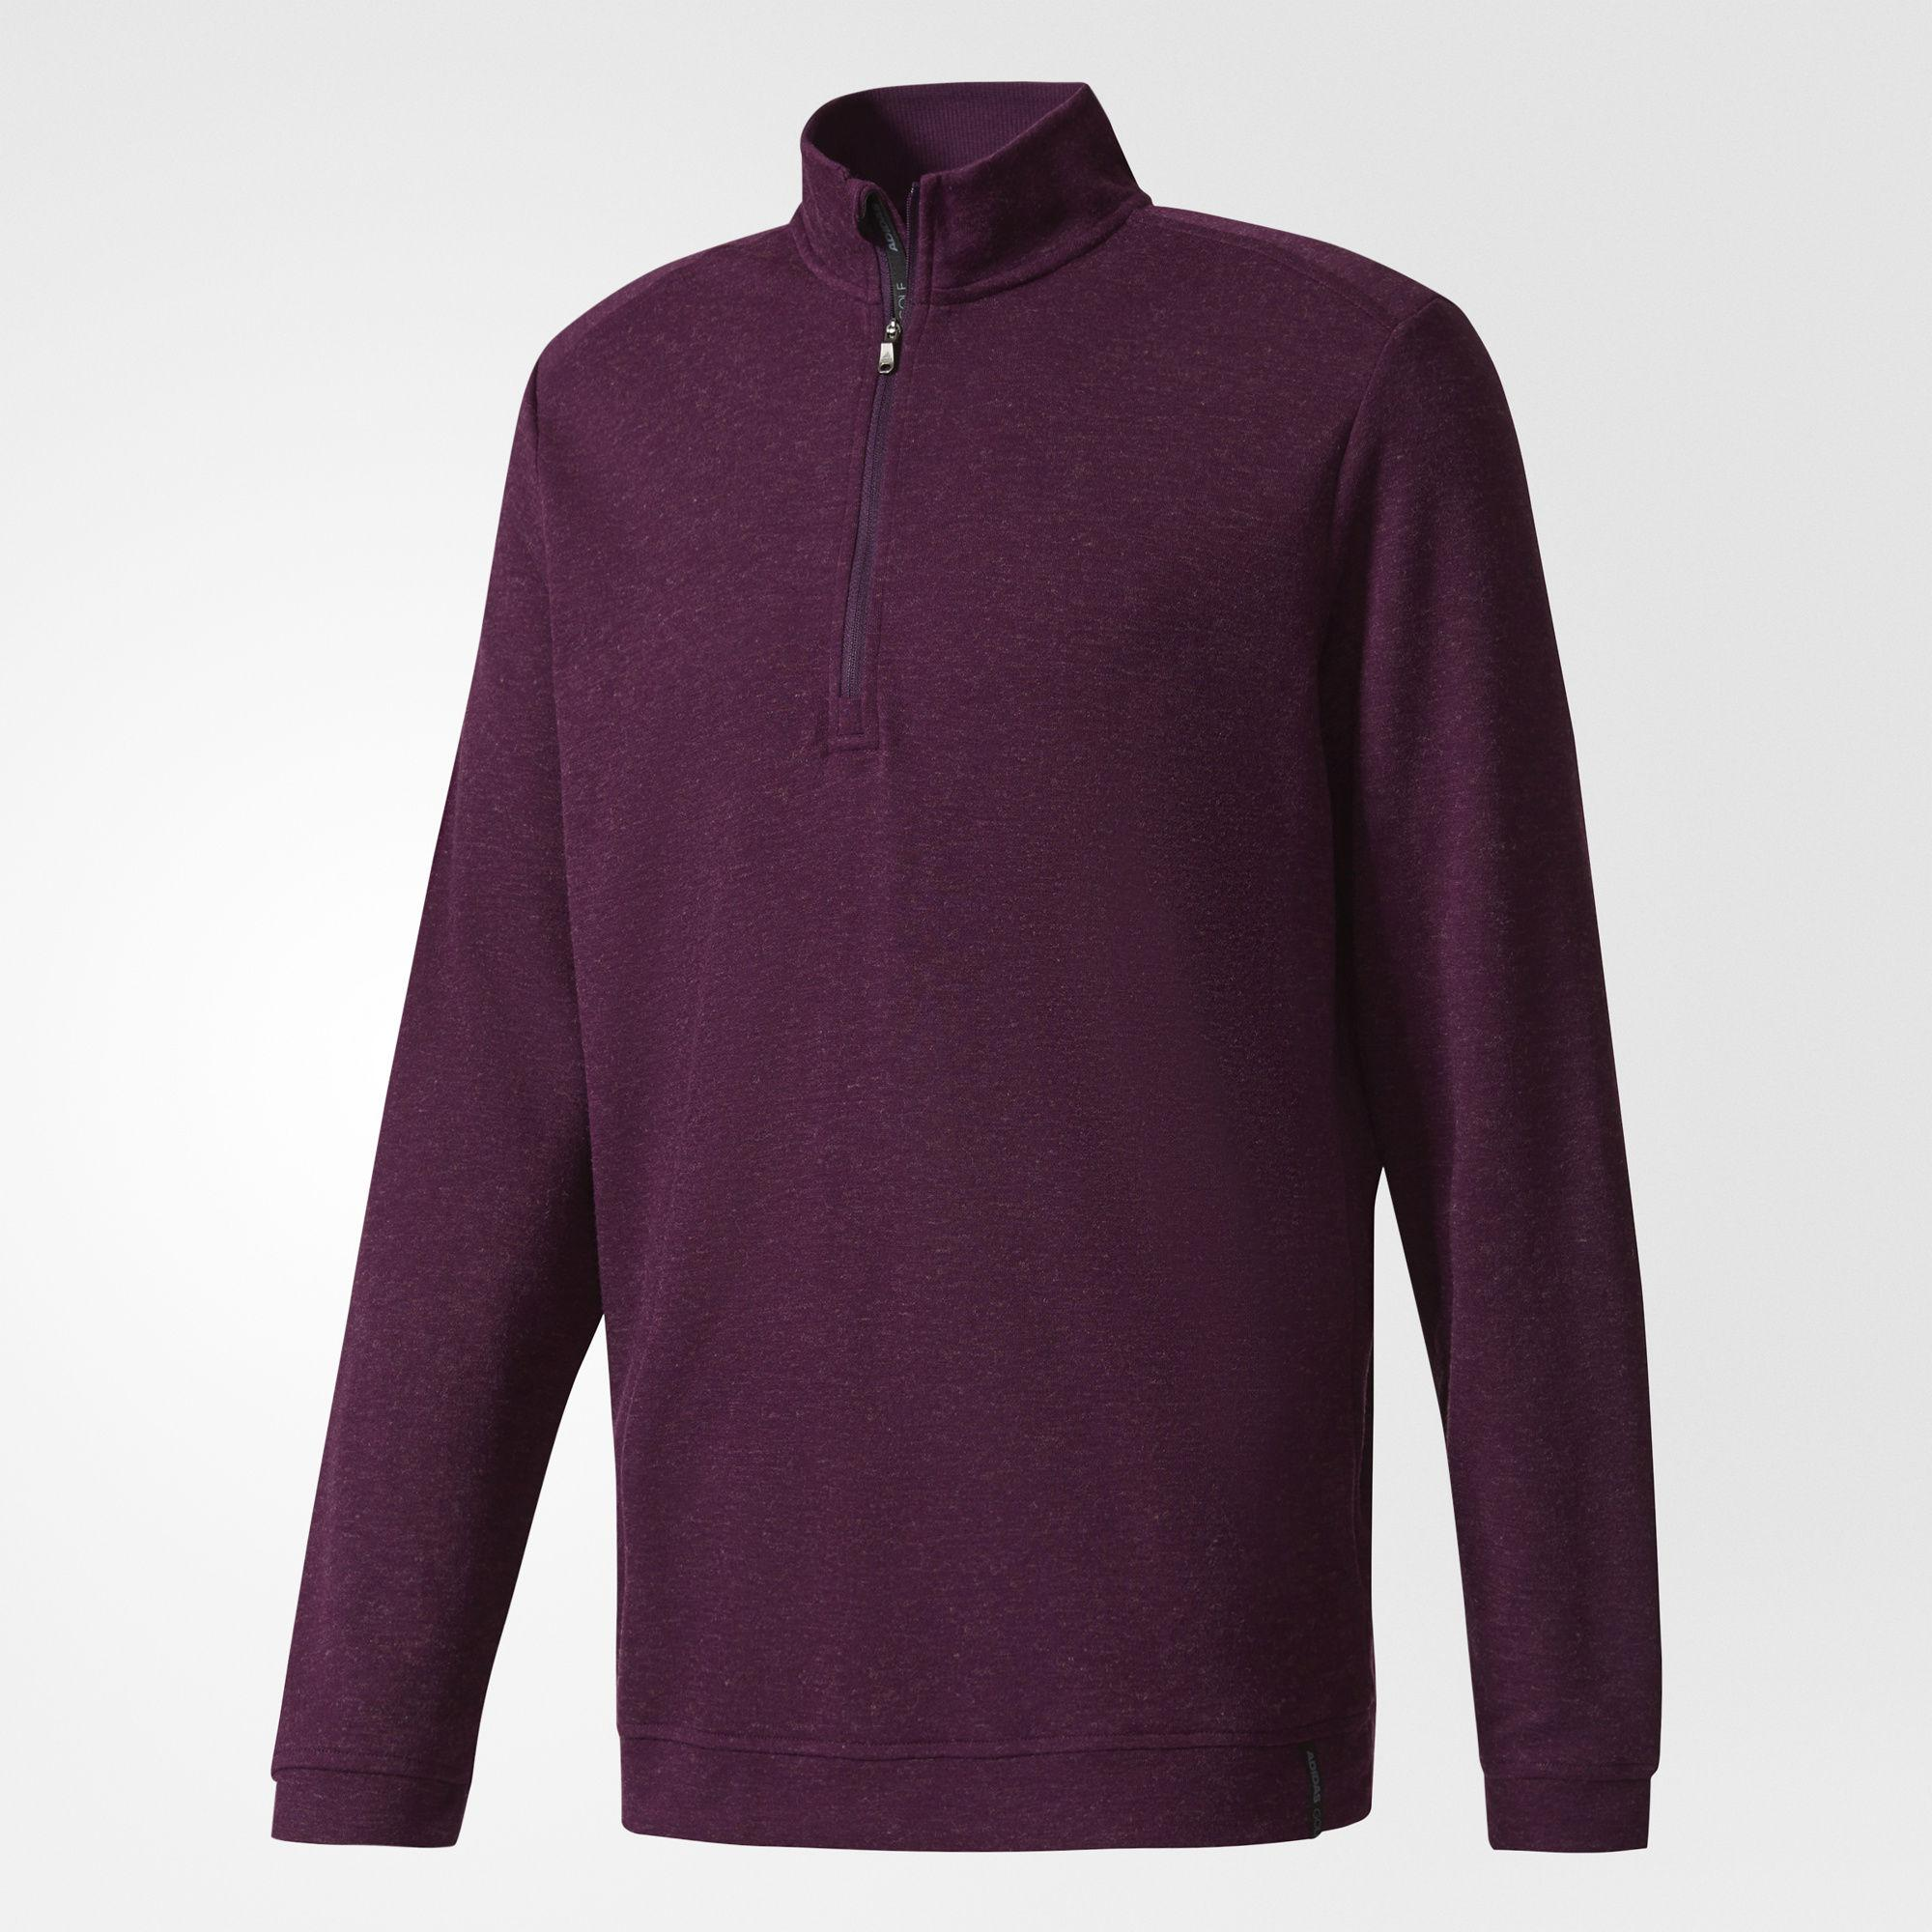teeshirt: (120, 78, 1810, 1898)
